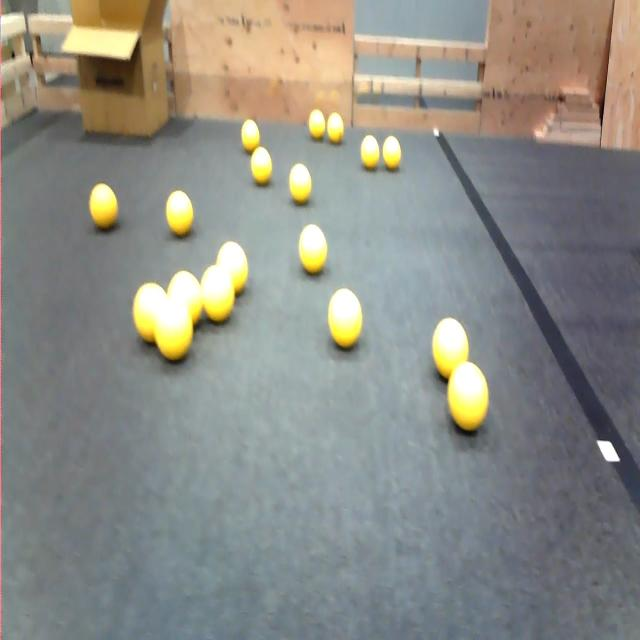fuel: (448, 362, 488, 431), (155, 296, 193, 361), (432, 318, 468, 379), (328, 288, 362, 349), (133, 283, 166, 343), (167, 271, 202, 326), (201, 265, 234, 322), (216, 241, 248, 295), (299, 224, 327, 274), (166, 190, 194, 238), (89, 184, 118, 230), (289, 164, 311, 204), (251, 147, 272, 185), (241, 119, 260, 153), (361, 135, 379, 170), (383, 136, 401, 170), (309, 109, 325, 140), (327, 112, 343, 143)
